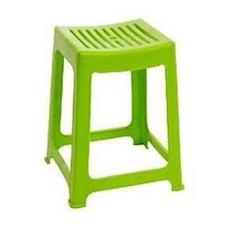chair: (31, 6, 197, 213)
